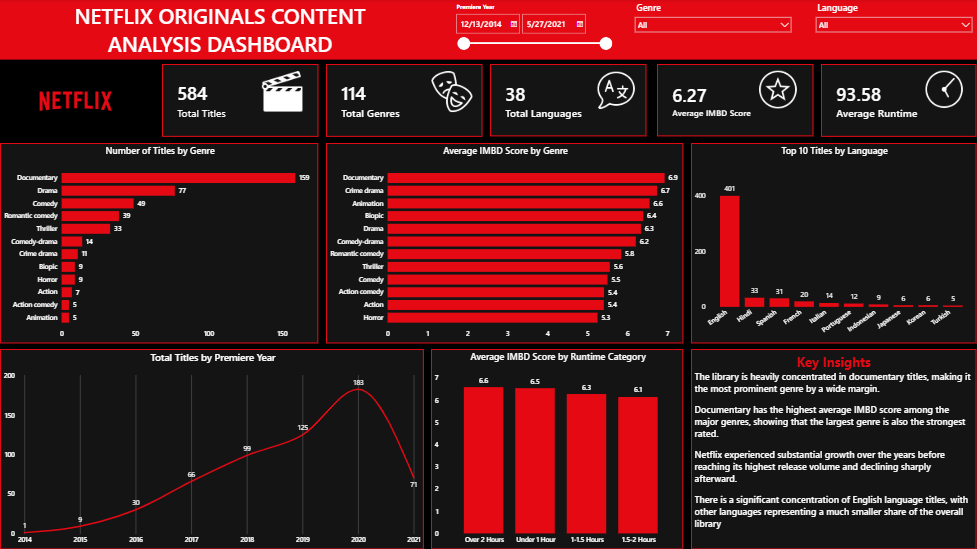

The page's visual inventory and layout, read from the dashboard file:
{"tool":"powerbi","page":{"name":"Page 1","canvas":[2000,1125],"ordinal":0},"visuals":[{"type":"shape","box":[0,0,2000,124.5],"z":0},{"type":"textbox","box":[0,0,900,124.5],"z":1000},{"type":"lineChart","fields":{"Category":["NetflixOriginals.Premiere Year"],"Y":["NetflixOriginals.Total Titles"]},"box":[0,716.3,867.3,410.2],"z":2000},{"type":"clusteredBarChart","title":"Number of Titles by Genre","fields":{"Category":["NetflixOriginals.Genre"],"Y":["NetflixOriginals.Total Titles"]},"box":[0,293.9,651,410.2],"z":3000},{"type":"clusteredBarChart","fields":{"Category":["NetflixOriginals.Genre"],"Y":["NetflixOriginals.Average IMBD Score"]},"box":[667.3,293.9,730.6,410.2],"z":4000},{"type":"cardVisual","fields":{"Data":["NetflixOriginals.Total Titles"]},"box":[330.6,132.7,320,149],"z":5000},{"type":"cardVisual","fields":{"Data":["NetflixOriginals.Total Genres"]},"box":[667.3,132.7,320,149],"z":6000},{"type":"cardVisual","fields":{"Data":["NetflixOriginals.Total Languages"]},"box":[1002,132.7,320,148],"z":7000},{"type":"cardVisual","fields":{"Data":["NetflixOriginals.Average IMBD Score"]},"box":[1342.9,132.7,320,148.3],"z":8000},{"type":"cardVisual","fields":{"Data":["NetflixOriginals.Average Runtime"]},"box":[1679.6,132.7,320,149],"z":9000},{"type":"image","box":[524.5,146.9,106,83],"z":10000},{"type":"image","box":[1877.6,142.9,106,83],"z":11000},{"type":"image","box":[1206.1,144.9,106,83],"z":12000},{"type":"image","box":[1538.8,142.9,106,83.7],"z":13000},{"type":"image","box":[871.4,146.9,106.1,83.7],"z":14000},{"type":"slicer","fields":{"Values":["NetflixOriginals.Premiere"]},"box":[919.5,0,340.4,124.5],"z":15000},{"type":"slicer","fields":{"Values":["NetflixOriginals.Genre"]},"box":[1289,0,340.4,124.5],"z":16000},{"type":"slicer","fields":{"Values":["NetflixOriginals.Language"]},"box":[1658.4,0,340.4,124.5],"z":17000},{"type":"clusteredColumnChart","title":"Top 10 Titles by Language","fields":{"Category":["NetflixOriginals.Language"],"Y":["NetflixOriginals.Total Titles"]},"box":[1414.3,293.9,583.7,410.2],"z":18000},{"type":"clusteredColumnChart","fields":{"Category":["NetflixOriginals.Runtime Category"],"Y":["NetflixOriginals.Average IMBD Score"]},"box":[881.6,716.3,516.3,410.2],"z":19000},{"type":"textbox","box":[1414,716,584,410],"z":20000},{"type":"image","box":[0,132.8,310,148],"z":21000}]}

Visuals, with their boxes in screenshot pixels (x1, y1, x2, y2), scaled from the page's 2000x1125 canvas onto the 977x549 screenshot:
shape: select_region(0, 0, 976, 61)
textbox: select_region(0, 0, 440, 61)
lineChart - NetflixOriginals.Premiere Year x NetflixOriginals.Total Titles: select_region(0, 350, 424, 548)
"Number of Titles by Genre" clusteredBarChart: select_region(0, 143, 318, 344)
clusteredBarChart - NetflixOriginals.Genre x NetflixOriginals.Average IMBD Score: select_region(326, 143, 683, 344)
cardVisual - NetflixOriginals.Total Titles: select_region(161, 65, 318, 137)
cardVisual - NetflixOriginals.Total Genres: select_region(326, 65, 482, 137)
cardVisual - NetflixOriginals.Total Languages: select_region(489, 65, 646, 137)
cardVisual - NetflixOriginals.Average IMBD Score: select_region(656, 65, 812, 137)
cardVisual - NetflixOriginals.Average Runtime: select_region(820, 65, 976, 137)
image: select_region(256, 72, 308, 112)
image: select_region(917, 70, 969, 110)
image: select_region(589, 71, 641, 111)
image: select_region(752, 70, 803, 111)
image: select_region(426, 72, 478, 113)
slicer - NetflixOriginals.Premiere: select_region(449, 0, 615, 61)
slicer - NetflixOriginals.Genre: select_region(630, 0, 796, 61)
slicer - NetflixOriginals.Language: select_region(810, 0, 976, 61)
"Top 10 Titles by Language" clusteredColumnChart: select_region(691, 143, 976, 344)
clusteredColumnChart - NetflixOriginals.Runtime Category x NetflixOriginals.Average IMBD Score: select_region(431, 350, 683, 548)
textbox: select_region(691, 349, 976, 548)
image: select_region(0, 65, 151, 137)
